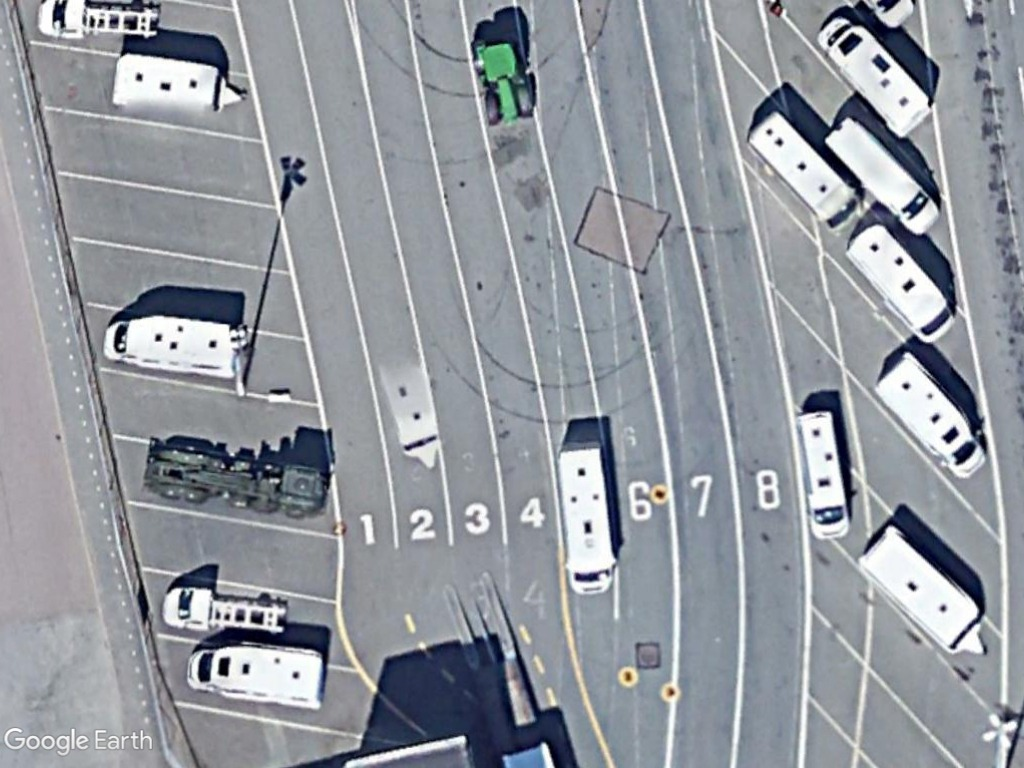van: (744, 101, 870, 240), (870, 346, 992, 481), (814, 12, 943, 138), (820, 114, 950, 234), (843, 216, 958, 342), (549, 439, 632, 607), (96, 310, 252, 388), (187, 636, 335, 717), (785, 401, 857, 548)
